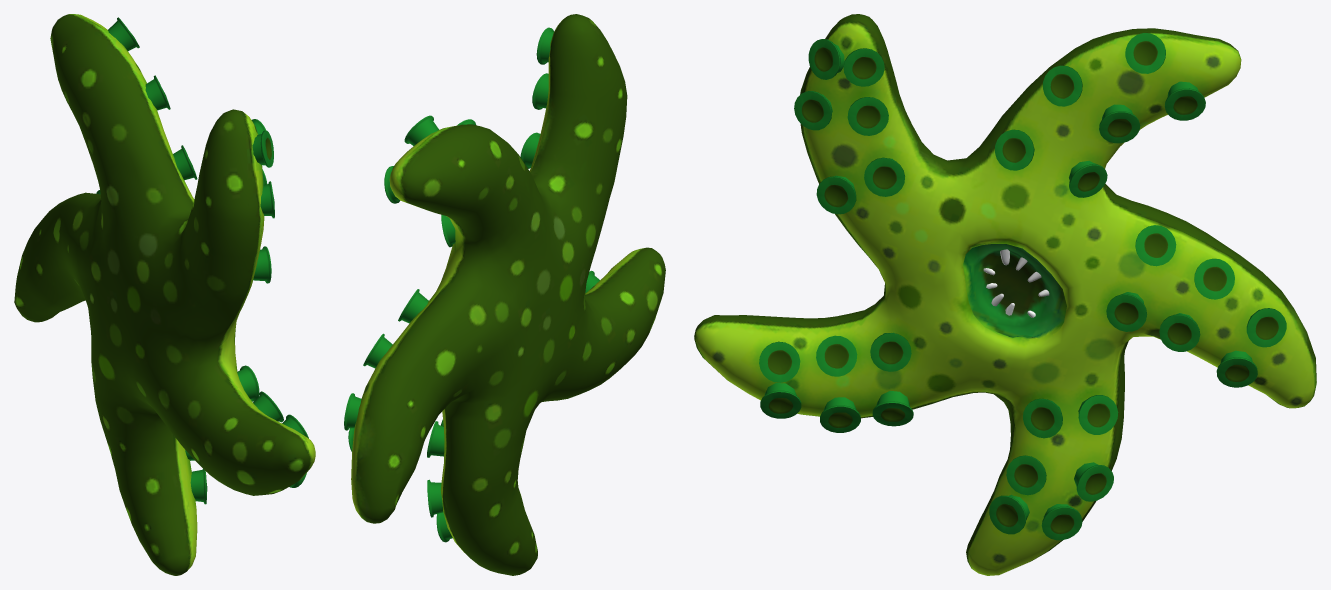
Rendered from SeaStar.fbx.
3 renders of one model, left to right at view 1: azimuth 30°, elevation 25°; view 2: azimuth 150°, elevation 25°; view 3: azimuth 270°, elevation 25°, orthographic. The views are drawn at different scales.
Parts seen in each view (by area): view 1: node_id30; view 2: node_id30; view 3: node_id30.
Part boxes in pixels (x1=…): node_id30: x1=14, y1=14, x2=315, y2=575; node_id30: x1=344, y1=14, x2=665, y2=575; node_id30: x1=694, y1=14, x2=1316, y2=575.
Bounding box in the file's own units: 0.1001 × 0.512 × 0.5174.
Materials: 1 (1 with a texture image).
